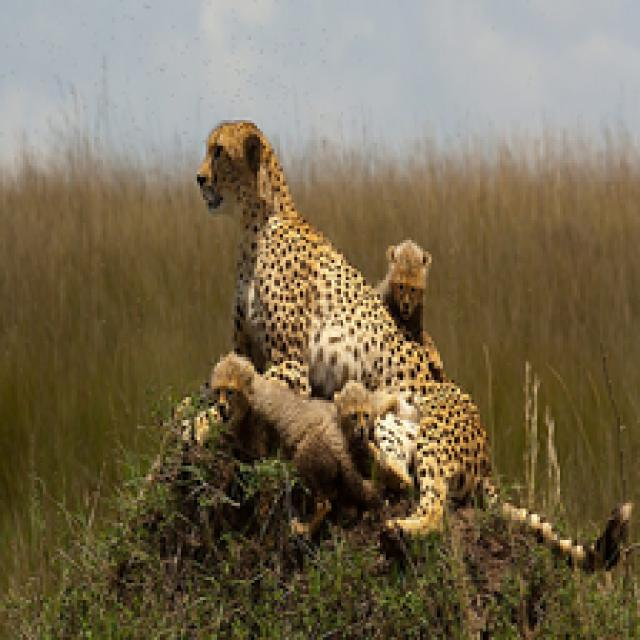cheetah: (174, 97, 519, 595), (339, 194, 466, 386), (294, 383, 444, 522), (197, 319, 299, 445)
